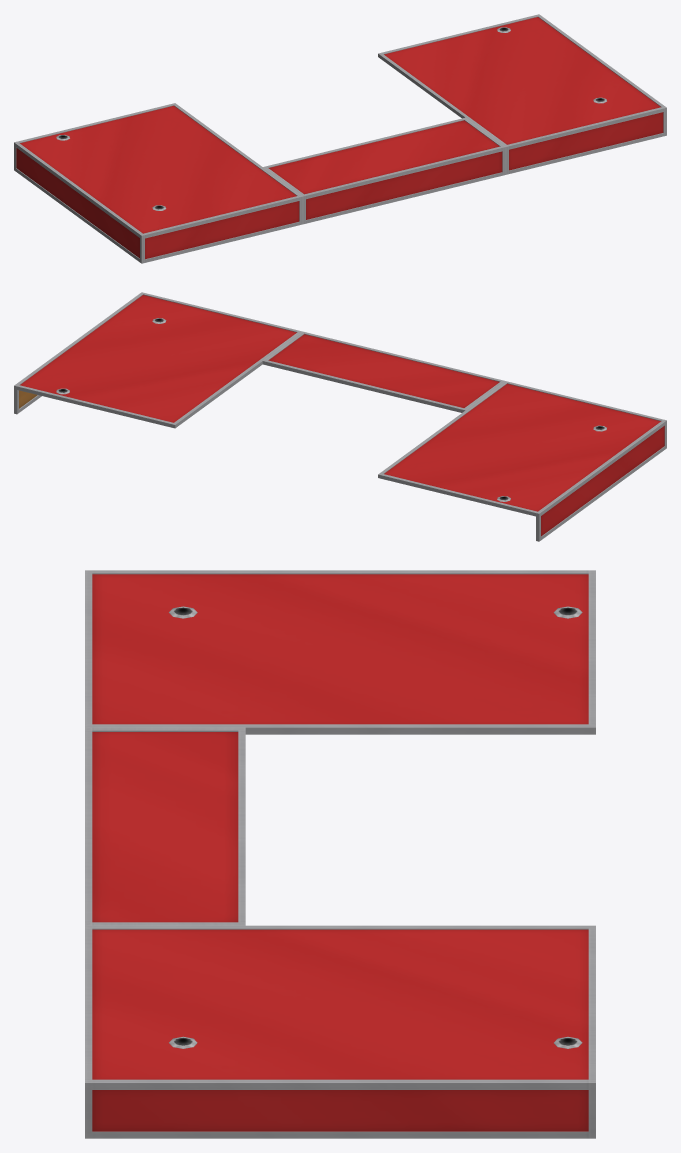
File: jsf_4P_s02_c06_t02_DX.fbx
3 renders of one model, top to bottom at view 1: azimuth 30°, elevation 25°; view 2: azimuth 150°, elevation 25°; view 3: azimuth 270°, elevation 25°, orthographic. The views are drawn at different scales.
Parts seen in each view (by area): view 1: jsf_4P_s02_c06_t02_DX; view 2: jsf_4P_s02_c06_t02_DX; view 3: jsf_4P_s02_c06_t02_DX.
Boxes of the visible parts, x1,y1,x2,y2 form: jsf_4P_s02_c06_t02_DX: (14, 14, 666, 263); jsf_4P_s02_c06_t02_DX: (14, 292, 666, 541); jsf_4P_s02_c06_t02_DX: (85, 570, 595, 1138).
Size of the model in its own units: 246 by 12.99 by 104.
